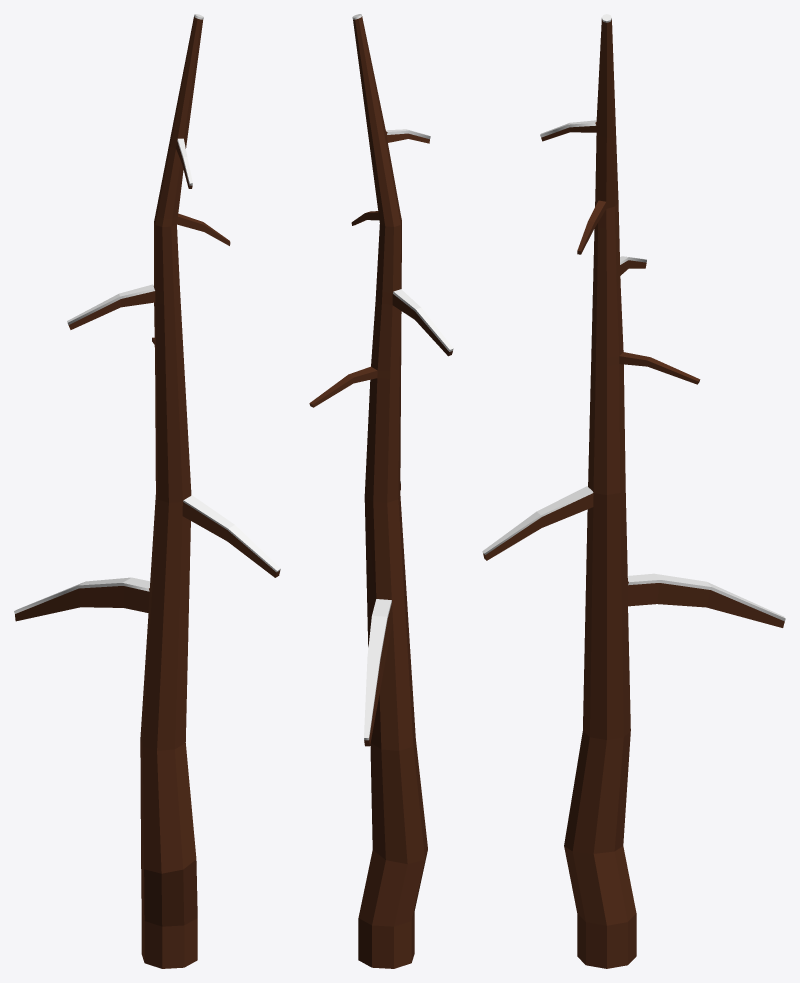
File: SNOW_DEAD_WOOD_2.glb
The picture shows the model from 3 angles, left to right: view 1: azimuth 30°, elevation 25°; view 2: azimuth 150°, elevation 25°; view 3: azimuth 270°, elevation 25°; orthographic projection. The views are drawn at different scales.
Visible parts, largest first — view 1: Cylinder.096; view 2: Cylinder.096; view 3: Cylinder.096.
Boxes of the visible parts, x1,y1,x2,y2 form: Cylinder.096: (14, 14, 280, 968); Cylinder.096: (309, 14, 453, 968); Cylinder.096: (482, 14, 785, 968).
Size of the model in its own units: 0.4557 by 3 by 0.863.
